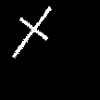single_crochet: (13, 7, 51, 56)
